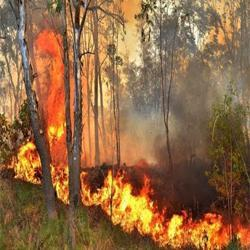fire: (109, 188, 149, 230), (169, 216, 226, 243), (47, 119, 65, 188), (15, 141, 43, 177)
